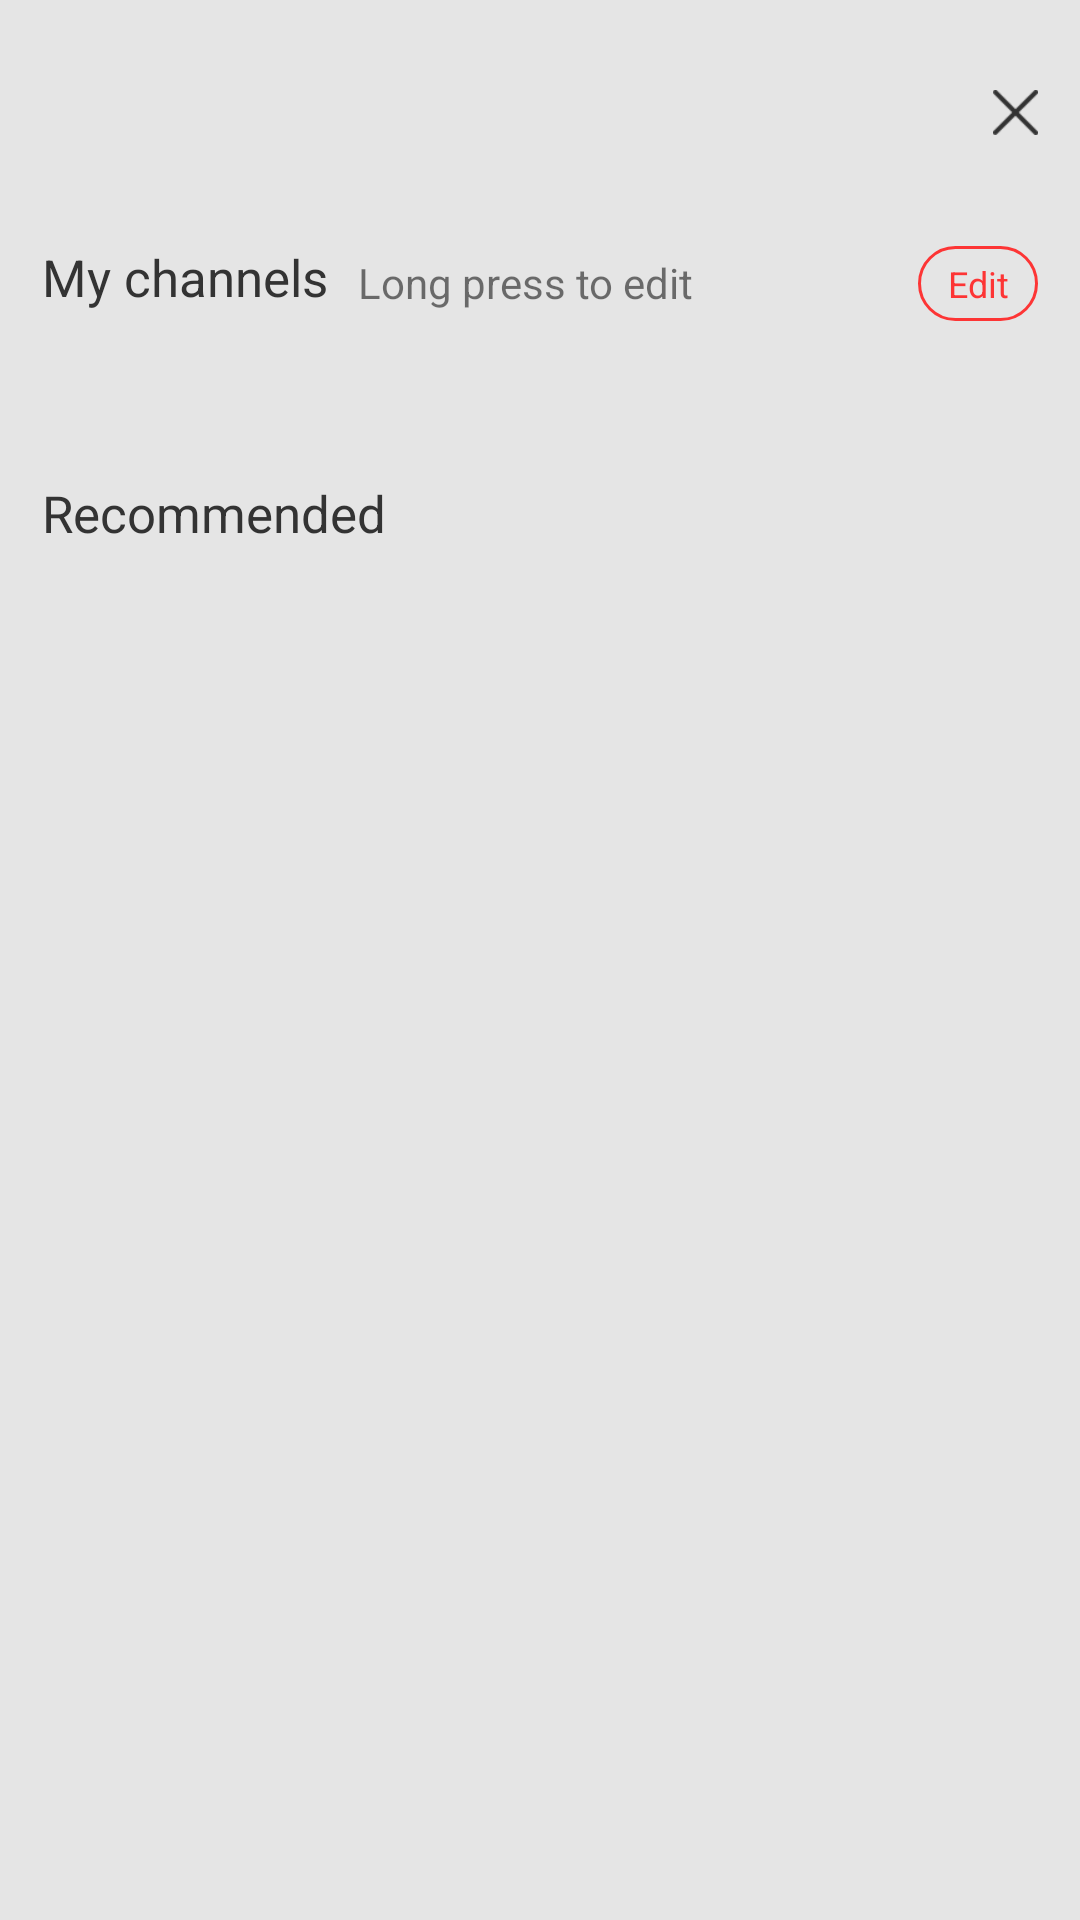

Icons on this 1080px×1920px Android screen, each with the point to tap as [x,y]:
closechannel: [1015,112]
